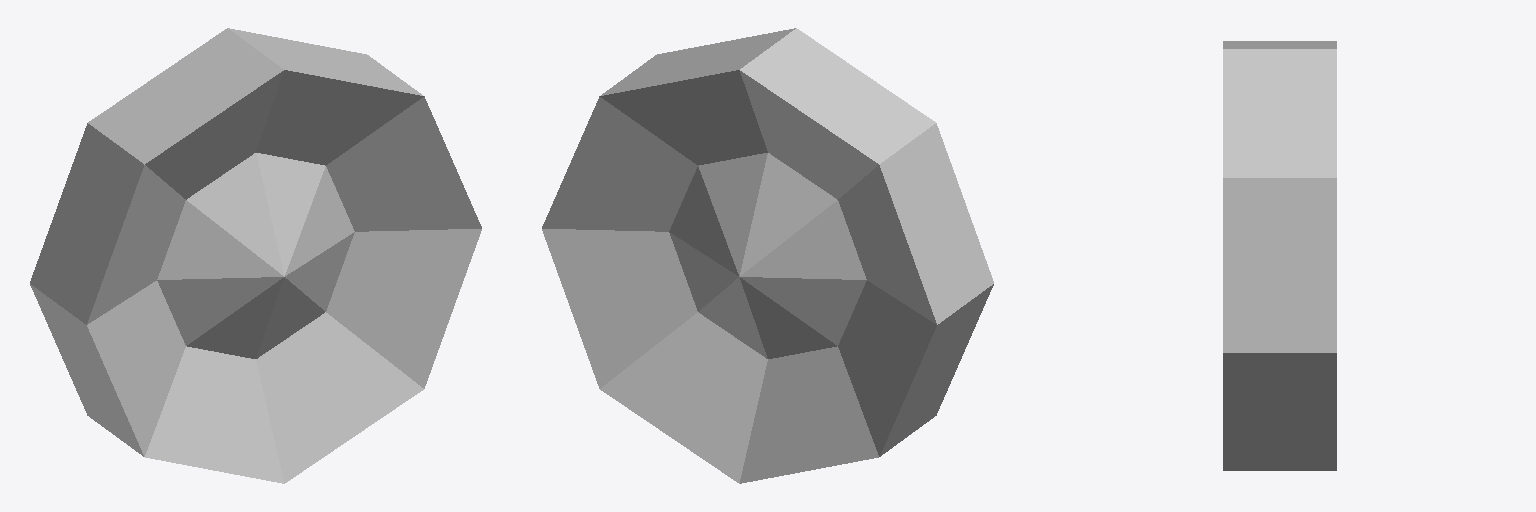
The model's file is modelo_rueda.obj.
The picture shows the model from 3 angles: view 1: azimuth 30°, elevation 25°; view 2: azimuth 150°, elevation 25°; view 3: azimuth 270°, elevation 25°; orthographic projection.
Bounding box in the file's own units: 2 × 2 × 0.5.